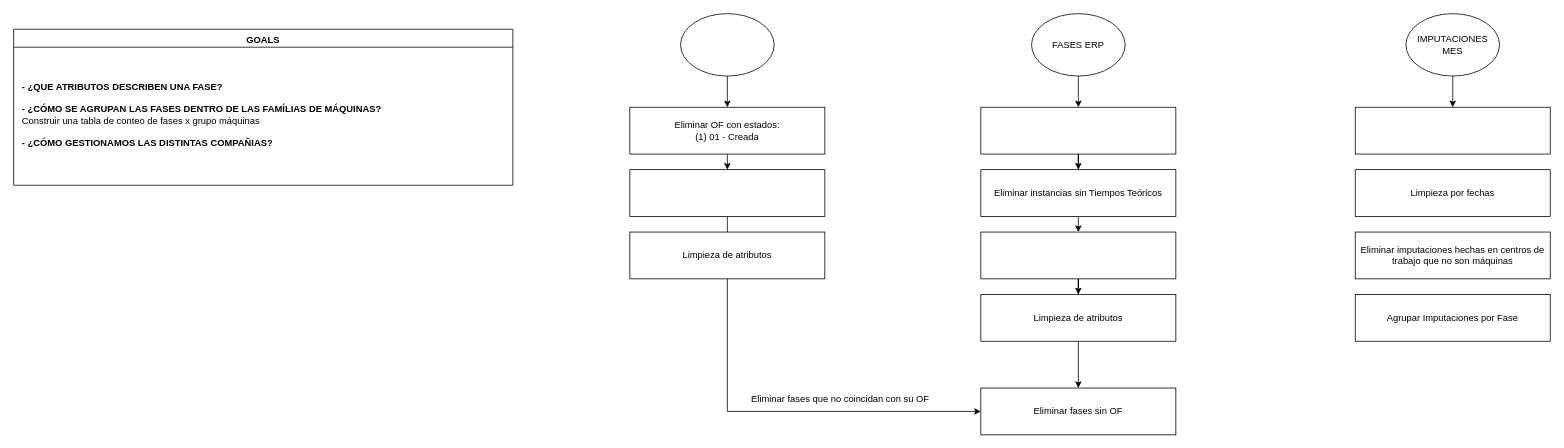
This 1564x448 diagram has some shape labels left out. Here are the shapes that lost their labels. From the top down, the centre of each, then its label:
point (727, 44): OF ERP
point (1078, 130): Eliminar instancias de Fases externas o canceladas
point (1452, 130): Selección de atributos
point (727, 192): Eliminar OF donde su fecha prevista de finalización sea después de agosto
point (1078, 255): Eliminar instancias previas a Junio 2025
